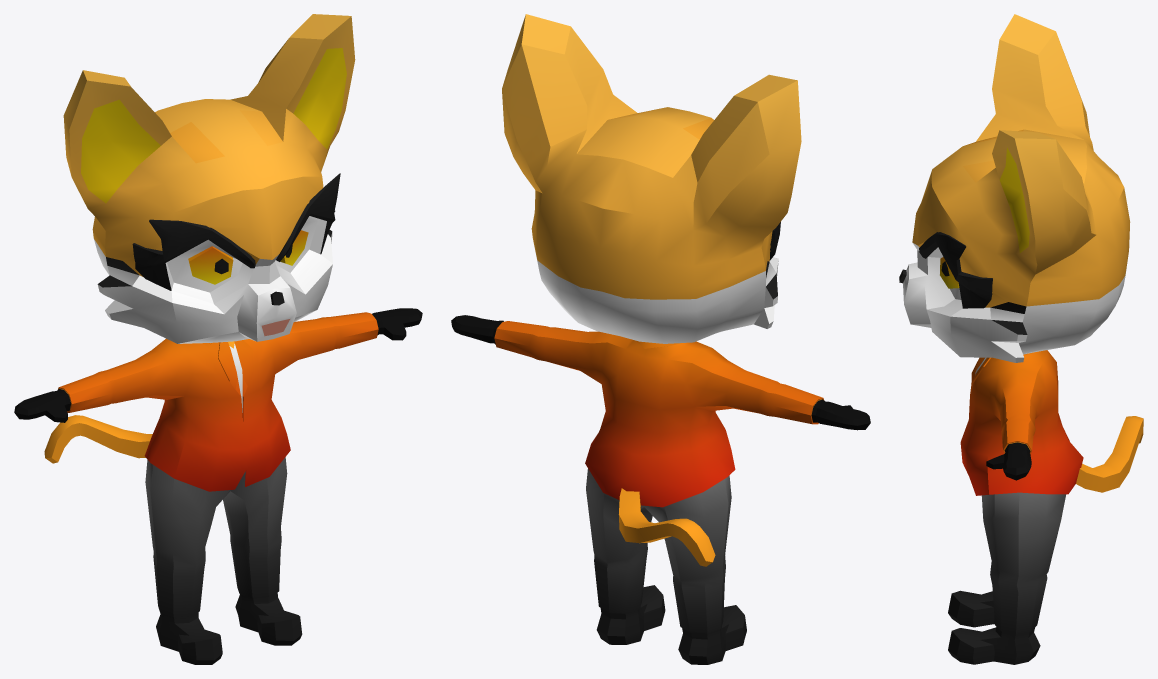
Rendered from Maskot.fbx.
3 views of the same model, side by side, from view 1: azimuth 30°, elevation 25°; view 2: azimuth 150°, elevation 25°; view 3: azimuth 270°, elevation 25° (orthographic). The views are drawn at different scales.
Visible parts, largest first — view 1: Char 1.008, Char 1.006, Char 1.007, Char 1.009; view 2: Char 1.008, Char 1.006, Char 1.007; view 3: Char 1.008, Char 1.006, Char 1.007, Char 1.009.
Part boxes in pixels (box(x1,y1,x2,y2)): Char 1.008: box(14, 14, 422, 664); Char 1.006: box(58, 312, 378, 491); Char 1.007: box(145, 457, 287, 617); Char 1.009: box(132, 173, 340, 290); Char 1.008: box(451, 14, 870, 664); Char 1.006: box(494, 321, 823, 507); Char 1.007: box(586, 468, 731, 633); Char 1.008: box(899, 14, 1143, 664); Char 1.006: box(960, 350, 1083, 495); Char 1.007: box(981, 492, 1066, 633); Char 1.009: box(919, 232, 992, 308).
Size of the model in its own units: 756 by 1031 by 407.
Materials: 1 (1 with a texture image).
